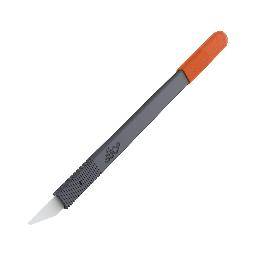scalpel: (28, 30, 228, 226)
